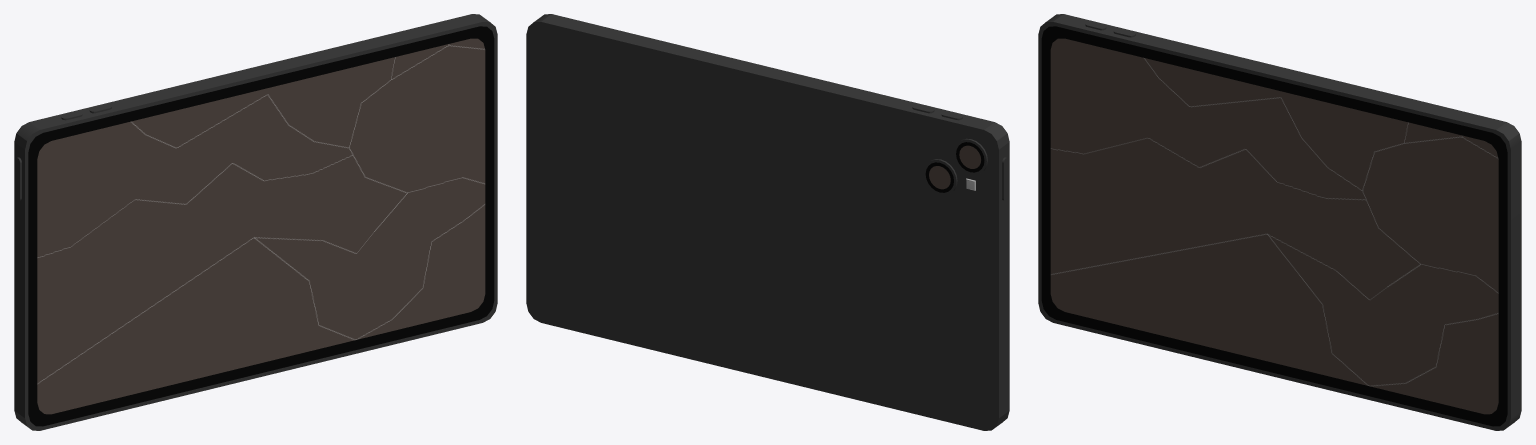
The model's file is Phone Tablet.fbx.
3 renders of one model, left to right at view 1: azimuth 30°, elevation 25°; view 2: azimuth 150°, elevation 25°; view 3: azimuth 330°, elevation 25°, orthographic.
Parts seen in each view (by area): view 1: pCube2; view 2: pCube2, polySurface1, polySurface2; view 3: pCube2.
Part boxes in pixels (x1=…): pCube2: x1=14, y1=14, x2=497, y2=430; pCube2: x1=526, y1=14, x2=1009, y2=430; polySurface1: x1=953, y1=138, x2=987, y2=174; polySurface2: x1=923, y1=159, x2=957, y2=195; pCube2: x1=1038, y1=14, x2=1521, y2=430.
Size of the model in its own units: 1.27 by 0.7746 by 0.0552.
Materials: 4 (1 with a texture image).
